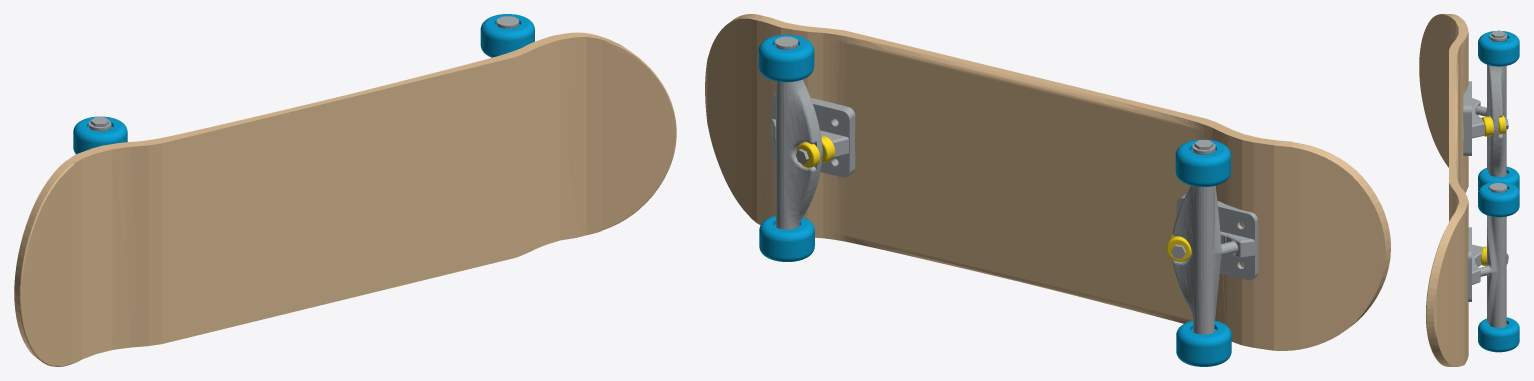
Rendered from tinker.obj.
The picture shows the model from 3 angles, left to right: view 1: azimuth 30°, elevation 25°; view 2: azimuth 150°, elevation 25°; view 3: azimuth 270°, elevation 25°; orthographic projection. The views are drawn at different scales.
Parts seen in each view (by area): view 1: group_0_14860437, group_0_40919, group_0_10988977; view 2: group_0_14860437, group_0_10988977, group_0_40919, group_0_16768282; view 3: group_0_14860437, group_0_10988977, group_0_40919, group_0_16768282.
Part boxes in pixels (left/top/right/bottom): group_0_14860437: left=14, top=32, right=676, bottom=366; group_0_40919: left=73, top=14, right=534, bottom=154; group_0_10988977: left=88, top=16, right=519, bottom=131; group_0_14860437: left=705, top=14, right=1390, bottom=350; group_0_10988977: left=771, top=36, right=1258, bottom=334; group_0_40919: left=758, top=34, right=1231, bottom=366; group_0_16768282: left=796, top=136, right=1191, bottom=261; group_0_14860437: left=1419, top=14, right=1468, bottom=366; group_0_10988977: left=1463, top=31, right=1508, bottom=352; group_0_40919: left=1478, top=30, right=1519, bottom=352; group_0_16768282: left=1481, top=115, right=1506, bottom=266.
Size of the model in its own units: 30 by 9.16 by 5.13.
